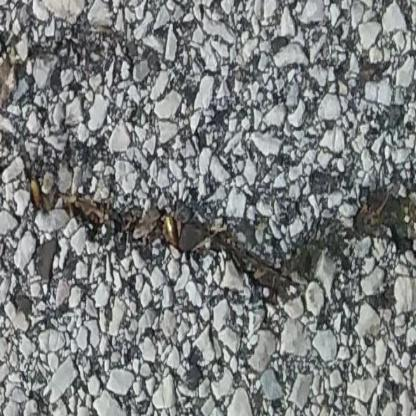Cracks: (0, 109, 416, 298)
